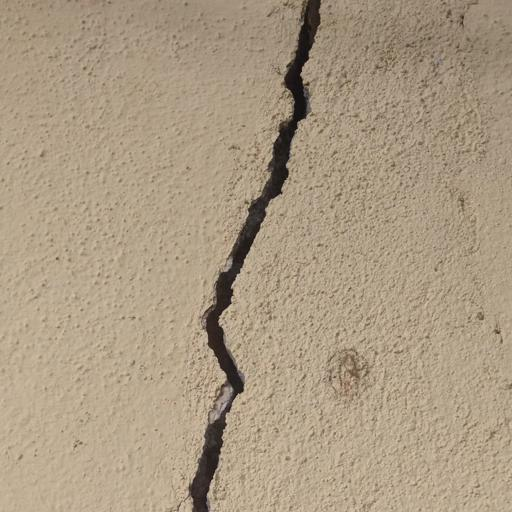major_crack: (180, 0, 334, 512)
